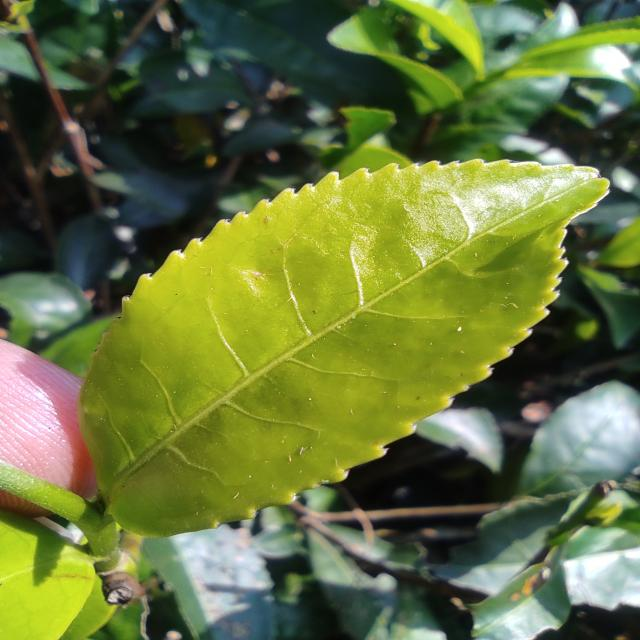Category C 4-7 days: (48, 141, 623, 549)
